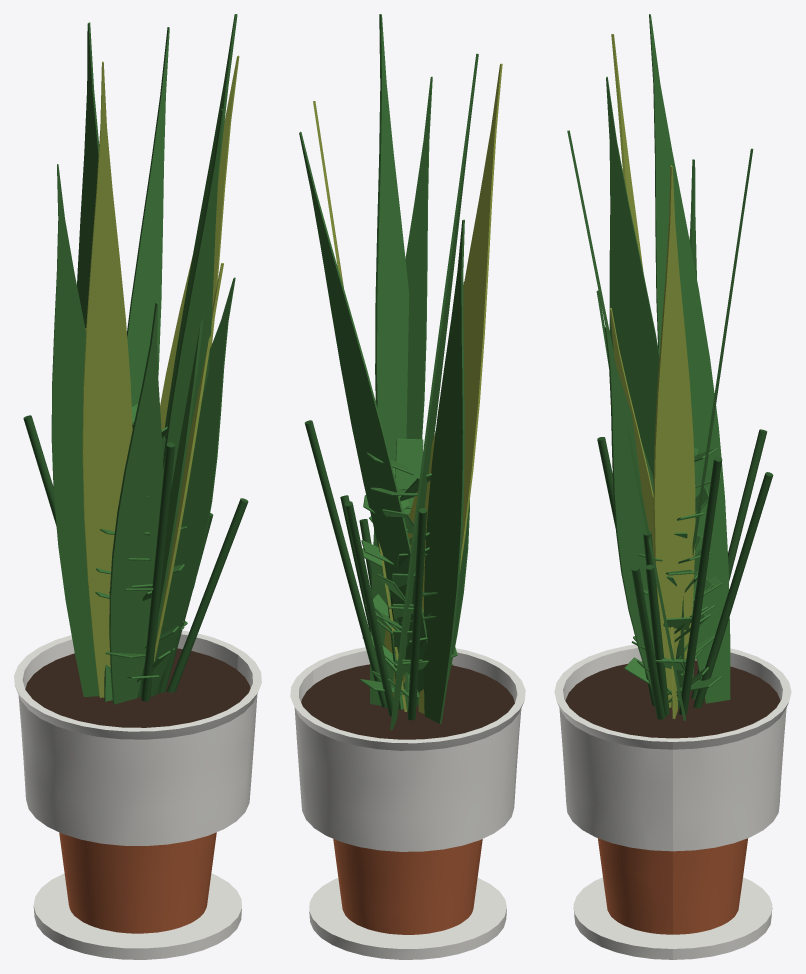
The model's file is plants.glb.
3 renders of one model, left to right at view 1: azimuth 30°, elevation 25°; view 2: azimuth 150°, elevation 25°; view 3: azimuth 270°, elevation 25°, orthographic. The views are drawn at different scales.
Visible parts, largest first — view 1: plant_snake, snake_leaf_0, snake_leaf_4, plant_zz, snake_leaf_10, snake_soil, snake_leaf_7, snake_leaf_1, snake_leaf_8, snake_leaf_2, snake_leaf_5, snake_leaf_6 (+4 smaller); view 2: plant_snake, snake_leaf_4, plant_zz, snake_leaf_1, snake_leaf_2, snake_soil, snake_leaf_0, snake_leaf_8, snake_leaf_5, zz_stem_3, zz_stem_1, zz_stem_6 (+4 smaller); view 3: plant_snake, snake_leaf_5, snake_leaf_6, plant_zz, snake_leaf_2, snake_soil, snake_leaf_7, zz_stem_3, zz_stem_6, snake_leaf_8, snake_leaf_9, snake_leaf_1 (+6 smaller).
Part boxes in pixels (x1=…): plant_snake: x1=14, y1=630, x2=261, y2=959; snake_leaf_0: x1=82, y1=61, x2=132, y2=697; snake_leaf_4: x1=51, y1=164, x2=99, y2=696; plant_zz: x1=59, y1=832, x2=216, y2=933; snake_leaf_10: x1=109, y1=302, x2=163, y2=704; snake_soil: x1=25, y1=648, x2=250, y2=727; snake_leaf_7: x1=150, y1=277, x2=235, y2=696; snake_leaf_1: x1=104, y1=27, x2=169, y2=701; snake_leaf_8: x1=163, y1=109, x2=223, y2=490; snake_leaf_2: x1=140, y1=14, x2=237, y2=697; snake_leaf_5: x1=77, y1=22, x2=99, y2=328; snake_leaf_6: x1=160, y1=55, x2=239, y2=429; plant_snake: x1=290, y1=647, x2=525, y2=959; snake_leaf_4: x1=423, y1=219, x2=464, y2=723; plant_zz: x1=333, y1=839, x2=482, y2=934; snake_leaf_1: x1=299, y1=131, x2=427, y2=694; snake_leaf_2: x1=375, y1=14, x2=409, y2=709; snake_soil: x1=301, y1=664, x2=514, y2=739; snake_leaf_0: x1=418, y1=63, x2=502, y2=713; snake_leaf_8: x1=370, y1=76, x2=432, y2=705; snake_leaf_5: x1=390, y1=53, x2=478, y2=730; zz_stem_3: x1=304, y1=420, x2=386, y2=707; zz_stem_1: x1=407, y1=508, x2=426, y2=720; zz_stem_6: x1=344, y1=501, x2=393, y2=716; plant_snake: x1=554, y1=644, x2=791, y2=959; snake_leaf_5: x1=649, y1=14, x2=730, y2=703; snake_leaf_6: x1=653, y1=165, x2=695, y2=707; plant_zz: x1=598, y1=838, x2=747, y2=934; snake_leaf_2: x1=606, y1=76, x2=684, y2=705; snake_soil: x1=565, y1=660, x2=780, y2=738; snake_leaf_7: x1=604, y1=326, x2=655, y2=691; zz_stem_3: x1=679, y1=456, x2=722, y2=714; zz_stem_6: x1=693, y1=472, x2=773, y2=708; snake_leaf_8: x1=567, y1=130, x2=686, y2=720; snake_leaf_9: x1=610, y1=308, x2=654, y2=555; snake_leaf_1: x1=692, y1=148, x2=753, y2=556.
Bounding box in the file's own units: 0.228 × 0.9284 × 0.228.
